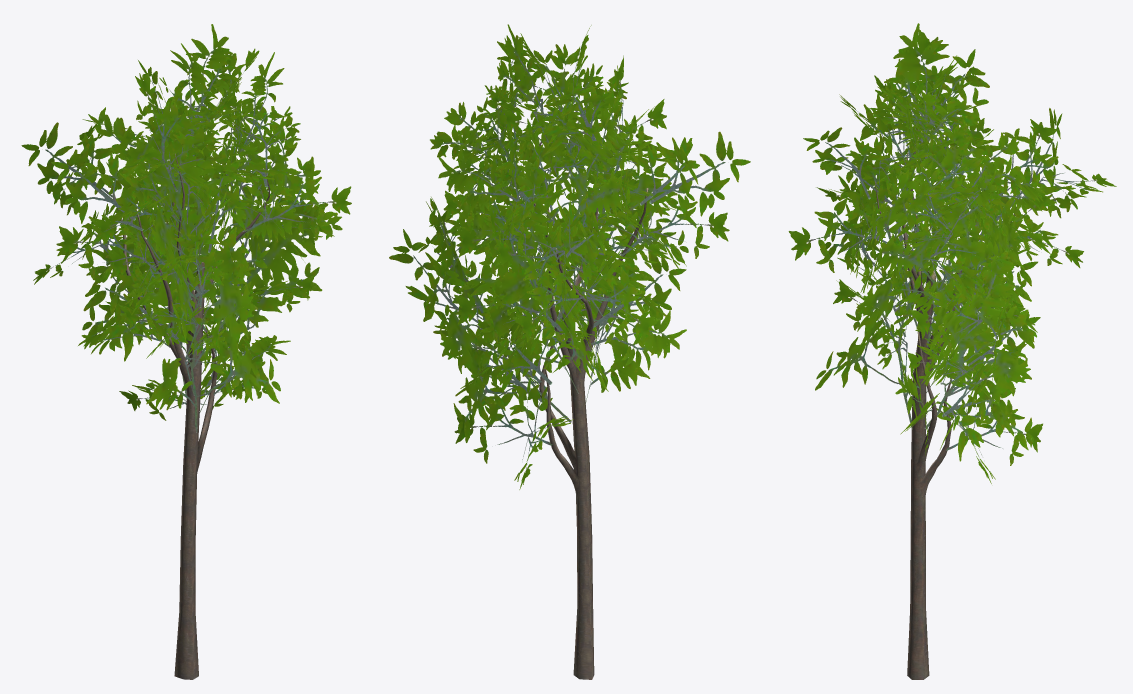
3 views of the same model, side by side, from view 1: azimuth 30°, elevation 25°; view 2: azimuth 150°, elevation 25°; view 3: azimuth 270°, elevation 25° (orthographic). The views are drawn at different scales.
Parts seen in each view (by area): view 1: SM_Ash_Sapling_01_LOD0; view 2: SM_Ash_Sapling_01_LOD0; view 3: SM_Ash_Sapling_01_LOD0.
Part boxes in pixels (x1,y1,x2,y2): SM_Ash_Sapling_01_LOD0: [21, 24, 351, 679]; SM_Ash_Sapling_01_LOD0: [389, 24, 750, 679]; SM_Ash_Sapling_01_LOD0: [788, 23, 1116, 679].
Size of the model in its own units: 1.13 by 2.4 by 1.1.
Materials: 2 (2 with a texture image).
